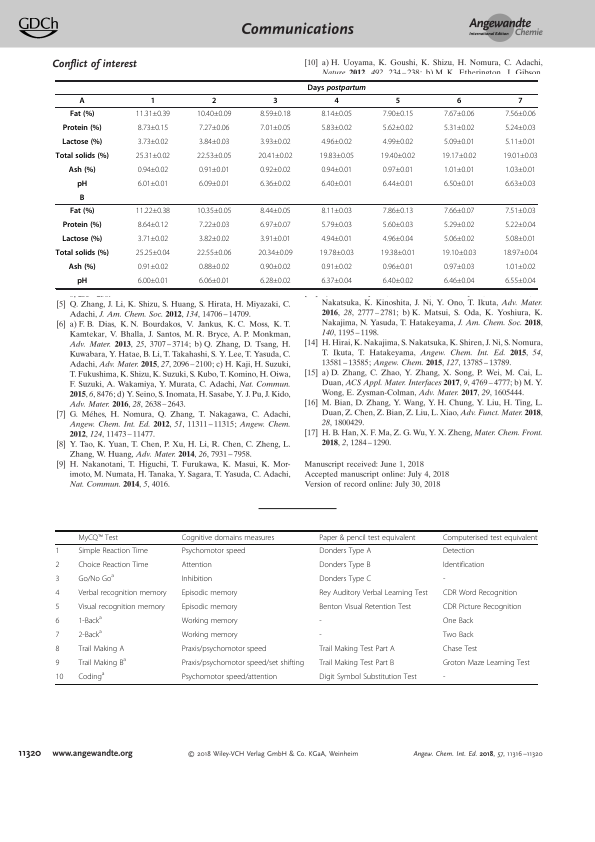borderless: (55, 79, 537, 288), (55, 529, 538, 684)
cell: (181, 658, 305, 668), (318, 588, 429, 598), (318, 672, 418, 682), (181, 672, 278, 682), (318, 602, 412, 612), (77, 588, 167, 598), (77, 602, 166, 612), (442, 658, 531, 668), (318, 533, 416, 542), (442, 533, 538, 542), (181, 644, 267, 654), (181, 533, 275, 542), (442, 602, 523, 612), (318, 644, 396, 654), (318, 658, 395, 668), (442, 588, 518, 598), (77, 546, 149, 556), (77, 560, 149, 570), (181, 546, 246, 556), (77, 656, 127, 668), (181, 616, 239, 626), (181, 630, 239, 640), (181, 588, 238, 598), (181, 602, 238, 612), (55, 151, 110, 161), (55, 248, 110, 258), (318, 546, 372, 556), (318, 574, 372, 584), (307, 83, 367, 92), (318, 560, 371, 570), (77, 644, 125, 654), (77, 572, 115, 584), (442, 560, 485, 570), (61, 137, 103, 147), (61, 234, 103, 244), (62, 123, 102, 133), (62, 220, 102, 230), (77, 533, 119, 542), (442, 644, 478, 654), (77, 670, 105, 682), (442, 546, 475, 556), (181, 560, 213, 570), (181, 574, 213, 584), (442, 616, 474, 626), (442, 630, 474, 640), (77, 614, 103, 626), (77, 628, 103, 640), (68, 165, 96, 175), (68, 262, 96, 272), (69, 109, 95, 119), (69, 206, 95, 216), (135, 110, 171, 117), (196, 110, 232, 117), (135, 152, 171, 159), (196, 152, 232, 159), (257, 152, 293, 159), (319, 152, 355, 159), (380, 152, 416, 159), (441, 152, 477, 159), (502, 152, 538, 159), (135, 207, 171, 214), (196, 207, 232, 214), (135, 249, 171, 256), (196, 249, 232, 256), (257, 249, 293, 256), (319, 249, 355, 256), (380, 249, 416, 256), (441, 249, 477, 256), (502, 249, 538, 256), (259, 110, 292, 117), (320, 110, 353, 117), (504, 110, 537, 117), (259, 124, 292, 131), (320, 124, 353, 131), (504, 124, 537, 131), (259, 138, 292, 145), (320, 138, 353, 145), (504, 138, 537, 145), (259, 166, 292, 173), (320, 166, 353, 173), (504, 166, 537, 173), (259, 180, 292, 187), (320, 180, 353, 187), (504, 180, 537, 187), (259, 207, 292, 214), (320, 207, 353, 214), (504, 207, 537, 214), (259, 221, 292, 228), (320, 221, 353, 228), (504, 221, 537, 228), (259, 235, 292, 242), (320, 235, 353, 242), (504, 235, 537, 242), (259, 263, 292, 270), (320, 263, 353, 270), (504, 263, 537, 270), (259, 277, 292, 284), (320, 277, 353, 284), (504, 277, 537, 284), (382, 110, 414, 117), (443, 110, 475, 117), (137, 124, 169, 131), (198, 124, 230, 131), (382, 124, 414, 131), (443, 124, 475, 131), (137, 138, 169, 145), (198, 138, 230, 145), (382, 138, 414, 145), (443, 138, 475, 145), (137, 166, 169, 173), (198, 166, 230, 173), (382, 166, 414, 173), (443, 166, 475, 173), (137, 180, 169, 187), (198, 180, 230, 187), (382, 180, 414, 187), (443, 180, 475, 187), (382, 207, 414, 214), (443, 207, 475, 214), (137, 221, 169, 228), (198, 221, 230, 228), (382, 221, 414, 228), (443, 221, 475, 228), (137, 235, 169, 242), (198, 235, 230, 242), (382, 235, 414, 242), (443, 235, 475, 242), (137, 263, 169, 270), (198, 263, 230, 270), (382, 263, 414, 270), (443, 263, 475, 270), (137, 277, 169, 284), (198, 277, 230, 284), (382, 277, 414, 284), (443, 277, 475, 284), (76, 179, 88, 189), (76, 276, 88, 286), (55, 672, 64, 682), (79, 96, 86, 106), (333, 96, 340, 106), (54, 546, 60, 556), (54, 560, 60, 570), (54, 574, 60, 584), (150, 96, 156, 106), (211, 96, 217, 106), (272, 96, 278, 106), (395, 96, 401, 106), (456, 96, 462, 106), (517, 96, 523, 106), (79, 193, 85, 203), (55, 588, 60, 598), (55, 602, 60, 612), (55, 616, 60, 626), (318, 616, 323, 626), (55, 630, 60, 640), (318, 630, 323, 640), (55, 644, 60, 654), (55, 658, 60, 668), (442, 574, 446, 584), (442, 672, 446, 682)
